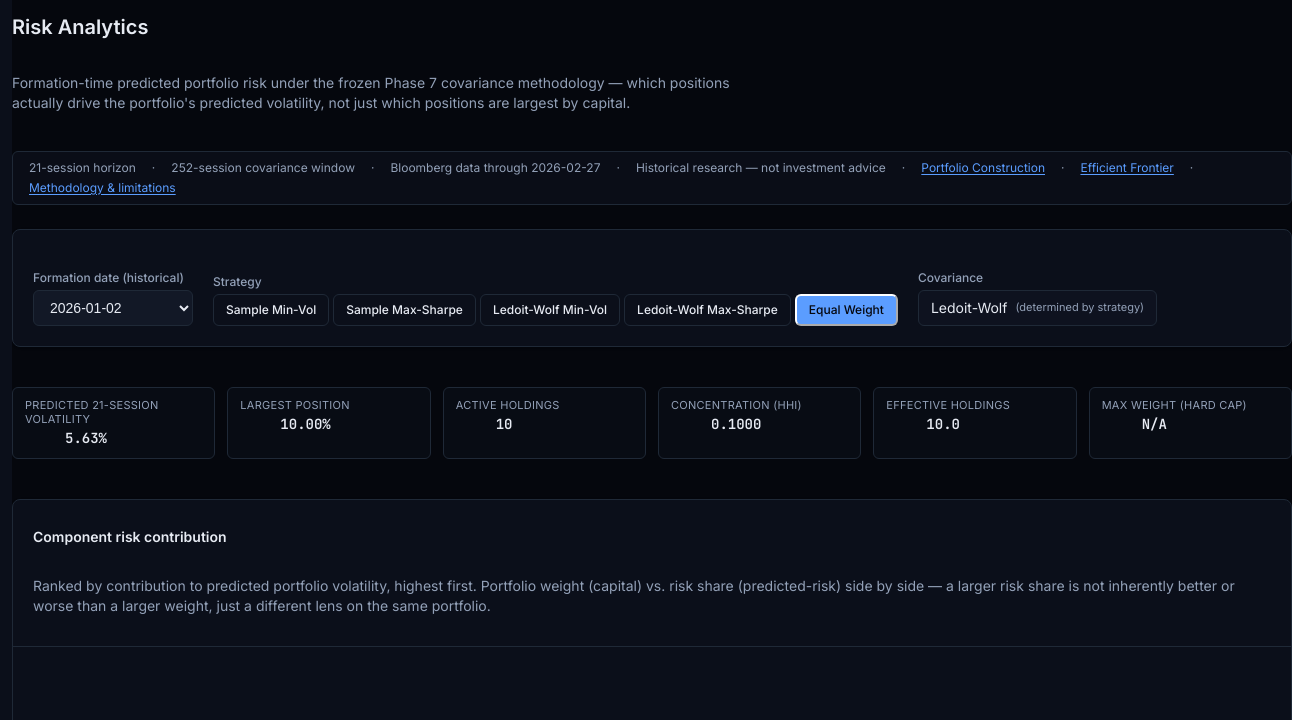
Scenario: RiskAnalyticsPage › shows an explicit covariance-analysis selector only for Equal Weight, with truthful labeling
The image size is (1292, 720).
expect the heading "Component risk contribution" is shown: met, box left=33, top=528, right=227, bottom=545
Click the button "Equal Weight" at (846, 310), box left=795, top=294, right=898, bottom=326
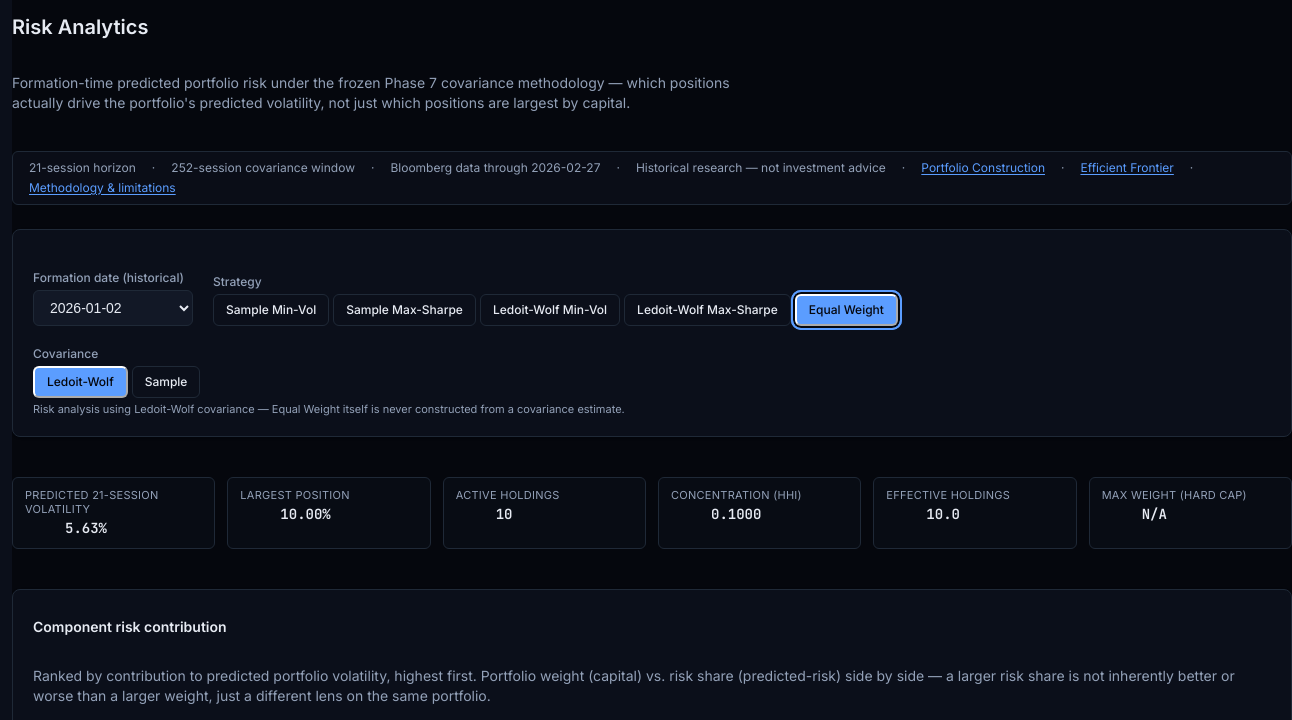
expect the element named "Covariance estimator for Equal Weight risk analysis" is shown: met, box left=33, top=366, right=200, bottom=398
expect the text "Risk analysis using Ledoit-Wolf covariance" is shown: met, box left=33, top=402, right=625, bottom=416
expect the text "Equal Weight itself is never constructed from a covariance estimate" is shown: met, box left=194, top=402, right=625, bottom=416
